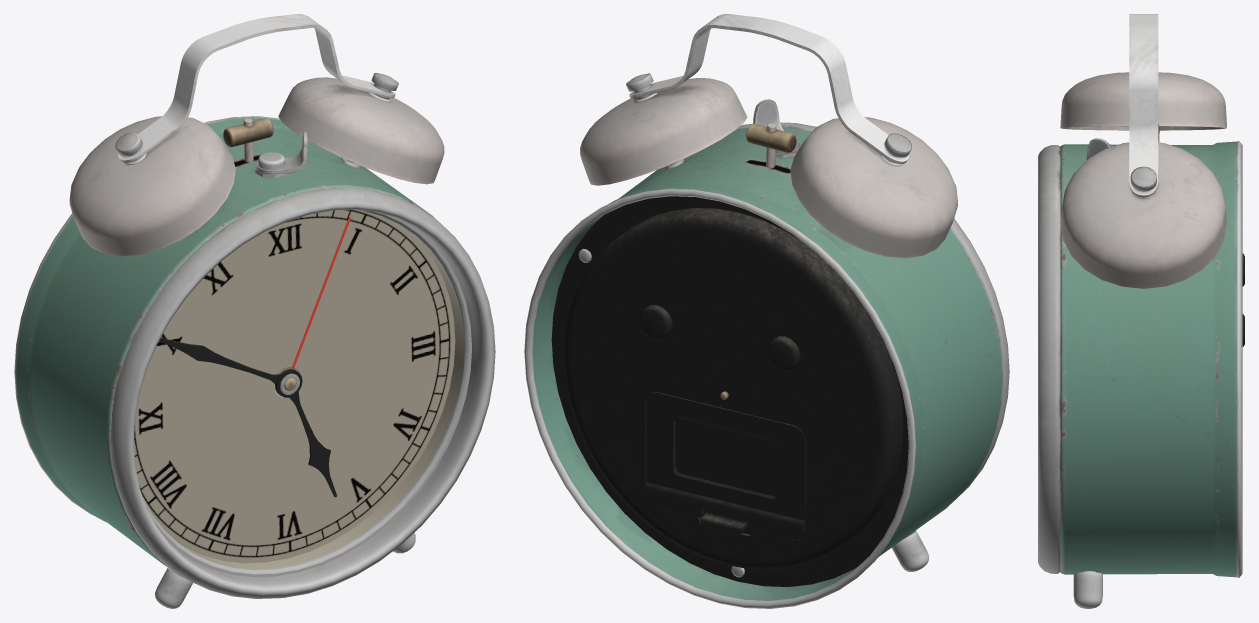
The model's file is alarm_clock.gltf.
The picture shows the model from 3 angles, left to right: view 1: azimuth 30°, elevation 25°; view 2: azimuth 150°, elevation 25°; view 3: azimuth 270°, elevation 25°; orthographic projection. The views are drawn at different scales.
Parts seen in each view (by area): view 1: alarm_clock_01, houd_hand, minute_hand; view 2: alarm_clock_01; view 3: alarm_clock_01.
Boxes of the visible parts, x1,y1,x2,y2 form: alarm_clock_01: (14, 14, 495, 608); houd_hand: (276, 370, 336, 497); minute_hand: (159, 337, 295, 393); alarm_clock_01: (524, 14, 1009, 608); alarm_clock_01: (1038, 14, 1244, 608).
Bounding box in the file's own units: 0.2633 × 0.3483 × 0.1244.
1 material, 1 textured.
